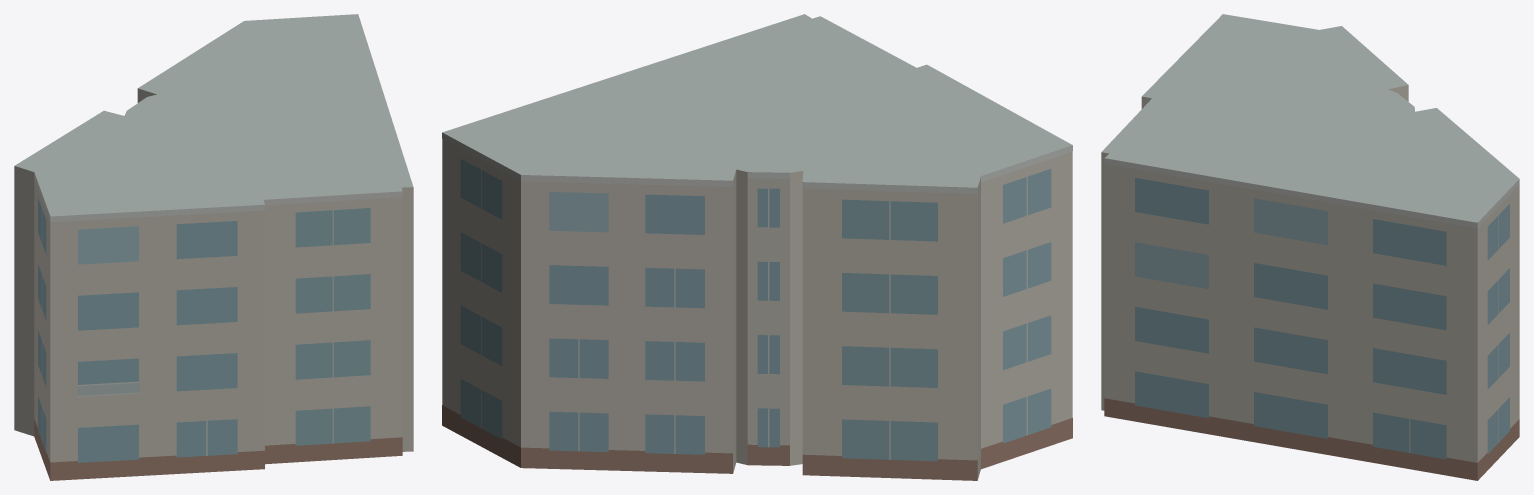
File: survey-upis-32548623.glb
3 views of the same model, side by side, from view 1: azimuth 30°, elevation 25°; view 2: azimuth 150°, elevation 25°; view 3: azimuth 270°, elevation 25° (orthographic). The views are drawn at different scales.
Visible parts, largest first — view 1: survey-upis-32548623.tmp; view 2: survey-upis-32548623.tmp; view 3: survey-upis-32548623.tmp.
Boxes of the visible parts, bbox=[...] form: survey-upis-32548623.tmp: bbox=[14, 14, 413, 480]; survey-upis-32548623.tmp: bbox=[442, 14, 1072, 480]; survey-upis-32548623.tmp: bbox=[1101, 14, 1519, 480].
Bounding box in the file's own units: 19.62 × 11.3 × 16.61.
